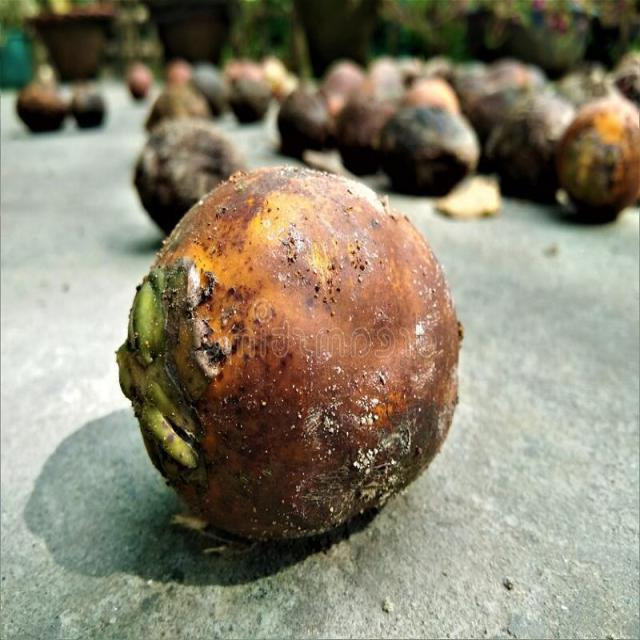damaged: (114, 167, 463, 546)
